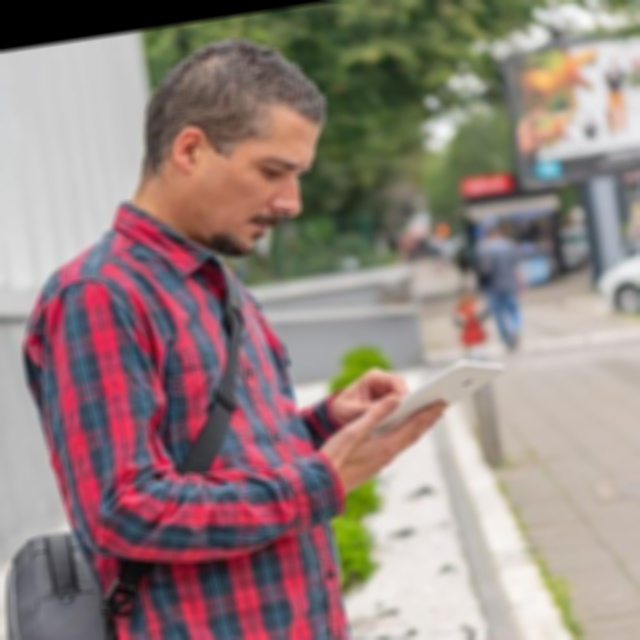Sin_Casco_Mascarrilla: (131, 28, 345, 269)
Sin_Chaleco: (14, 227, 348, 640)
